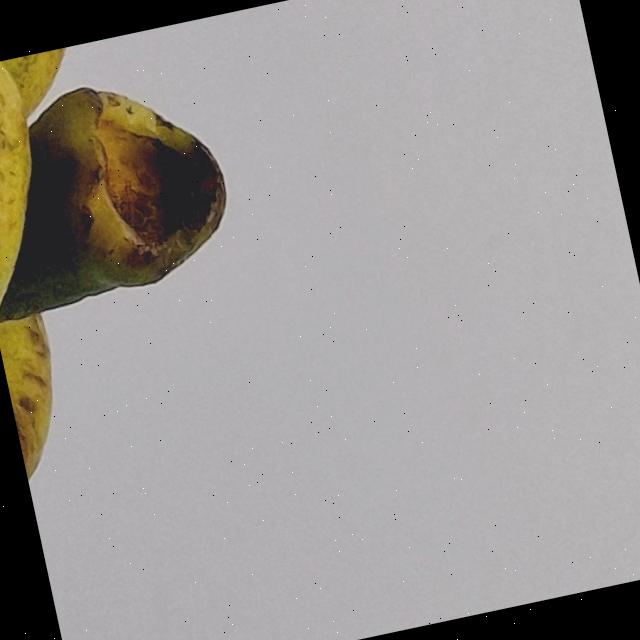mangosteen: (0, 8, 381, 640)
